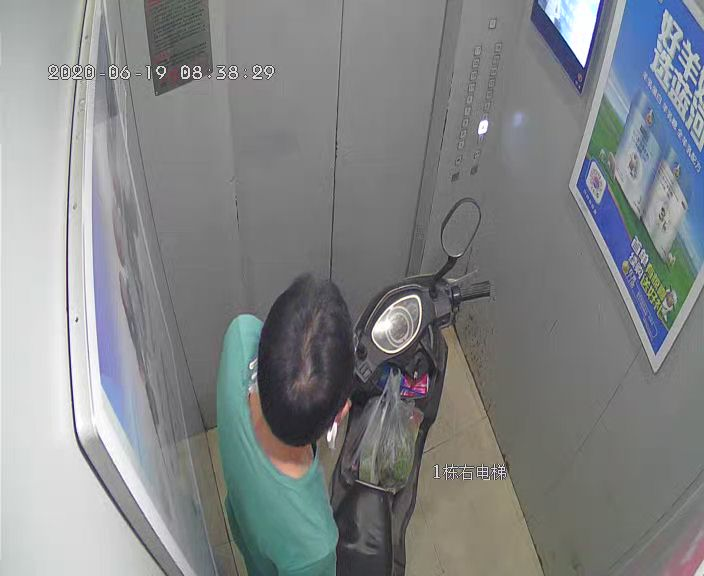Electric-bicycle: (332, 200, 495, 571)
